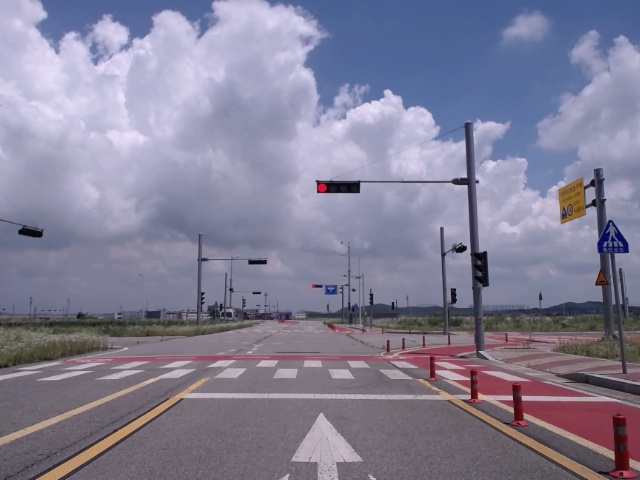red_4: (317, 181, 360, 194)
